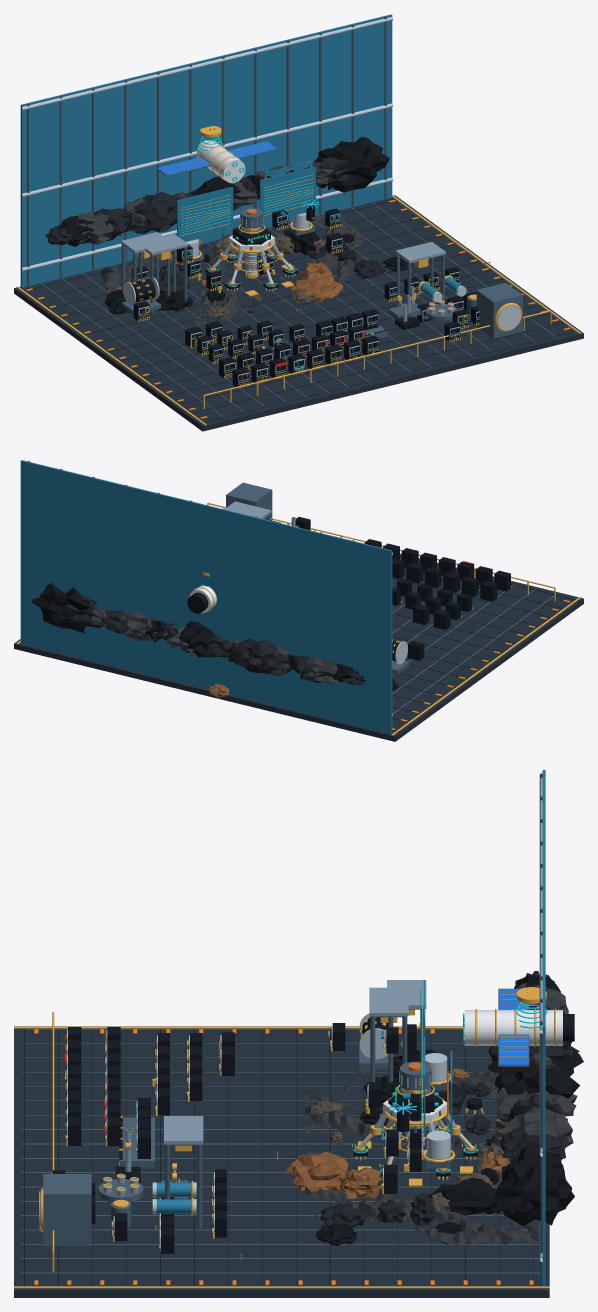
The model's file is Level92_Complete_ArtKit_Showcase.fbx.
3 renders of one model, top to bottom at view 1: azimuth 30°, elevation 25°; view 2: azimuth 150°, elevation 25°; view 3: azimuth 270°, elevation 25°, orthographic. The views are drawn at different scales.
Visible parts, largest first — view 1: L92_PanoramicKhepri7ObservationWindow, L92_AsteroidSamplingMissionDeck, L92_ExternalRockCraterWall, L92_AsteroidBoulderField, L92_CarbonaceousAsteroidSurface, L92_SubsurfaceTomographyProjection_Part_0000, L92_Khepri7GeologicalHologram_Part_0000, L92_VacuumSampleAirlock, L92_CoreTransferAccessBridge, L92_SamplingMissionControlConsole, L92_Aurora1AsteroidOrbitStage_Part_0000, L92_AsteroidOperationsSafetyRail (+5 smaller); view 2: L92_PanoramicKhepri7ObservationWindow, L92_AsteroidSamplingMissionDeck, L92_ExternalRockCraterWall, L92_VacuumSampleAirlock, L92_CoreTransferAccessBridge, L92_AsteroidOperationsSafetyRail, L92_TetherRetrievalWinch; view 3: L92_AsteroidSamplingMissionDeck, L92_ExternalRockCraterWall, L92_CarbonaceousAsteroidSurface, L92_AsteroidBoulderField, L92_VacuumSampleAirlock, L92_PanoramicKhepri7ObservationWindow, L92_Aurora1AsteroidOrbitStage_Part_0000, L92_CoreTransferAccessBridge, L92_SamplingMissionControlConsole, L92_Aurora1AsteroidOrbitStage_Part_0005, L92_ExteriorLanderDeploymentBay_Part_0002, L92_TetherRetrievalWinch (+4 smaller).
Boxes of the visible parts, x1,y1,x2,y2 form: L92_PanoramicKhepri7ObservationWindow: (20,14,393,287); L92_AsteroidSamplingMissionDeck: (14,195,583,431); L92_ExternalRockCraterWall: (45,137,389,246); L92_AsteroidBoulderField: (104,230,385,317); L92_CarbonaceousAsteroidSurface: (100,215,415,327); L92_SubsurfaceTomographyProjection_Part_0000: (177,187,233,241); L92_Khepri7GeologicalHologram_Part_0000: (260,166,315,222); L92_VacuumSampleAirlock: (476,282,522,338); L92_CoreTransferAccessBridge: (395,242,445,310); L92_SamplingMissionControlConsole: (316,309,387,346); L92_Aurora1AsteroidOrbitStage_Part_0000: (196,139,245,183); L92_AsteroidOperationsSafetyRail: (203,310,551,409); L92_PanoramicKhepri7ObservationWindow: (20,460,393,733); L92_AsteroidSamplingMissionDeck: (14,553,583,741); L92_ExternalRockCraterWall: (32,583,367,685); L92_VacuumSampleAirlock: (226,482,272,520); L92_CoreTransferAccessBridge: (225,501,271,520); L92_AsteroidOperationsSafetyRail: (207,502,555,601); L92_TetherRetrievalWinch: (392,641,409,674); L92_AsteroidSamplingMissionDeck: (14,1026,549,1297); L92_ExternalRockCraterWall: (488,971,583,1226); L92_CarbonaceousAsteroidSurface: (293,1068,536,1245); L92_AsteroidBoulderField: (286,1049,502,1233); L92_VacuumSampleAirlock: (43,1174,91,1245); L92_PanoramicKhepri7ObservationWindow: (539,770,545,1285); L92_Aurora1AsteroidOrbitStage_Part_0000: (464,1010,562,1045); L92_CoreTransferAccessBridge: (164,1116,203,1228); L92_SamplingMissionControlConsole: (119,1098,154,1168); L92_Aurora1AsteroidOrbitStage_Part_0005: (499,989,528,1064); L92_ExteriorLanderDeploymentBay_Part_0002: (387,980,426,1008); L92_TetherRetrievalWinch: (359,1013,388,1068).
Size of the model in its own units: 3500 by 1738 by 3193.
